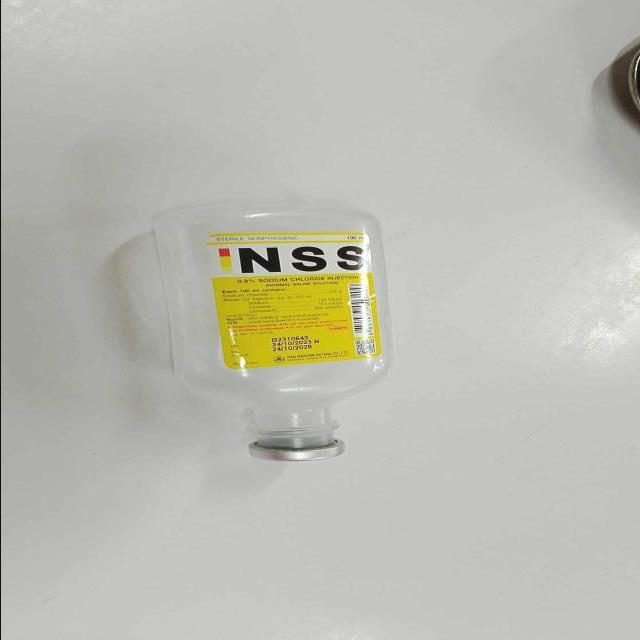General: (204, 228, 382, 371)
Sharps: (112, 202, 395, 463)
